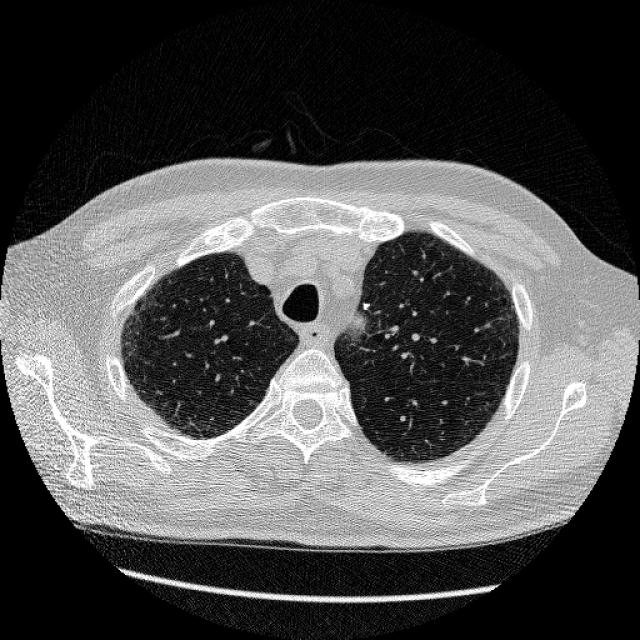nodule: (356, 296, 374, 314)
